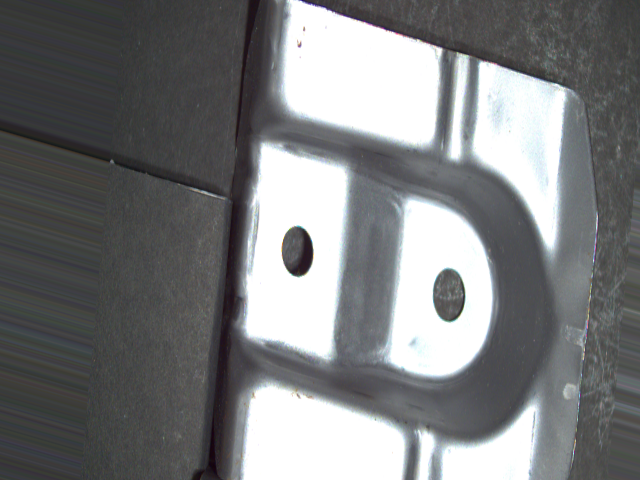defect: (425, 262, 468, 326)
